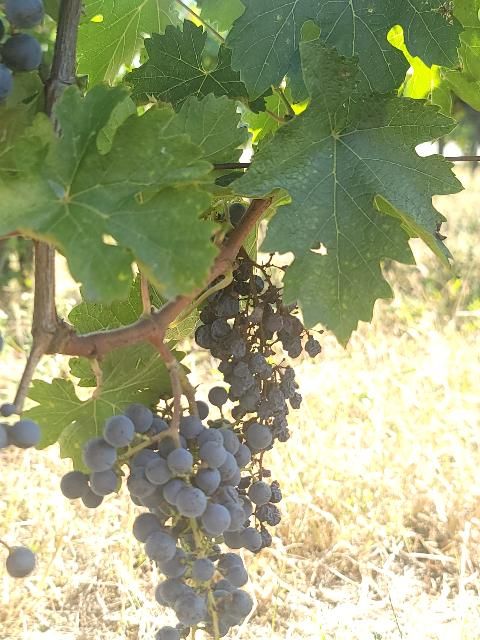grapes: (61, 389, 280, 640), (195, 256, 321, 450)
